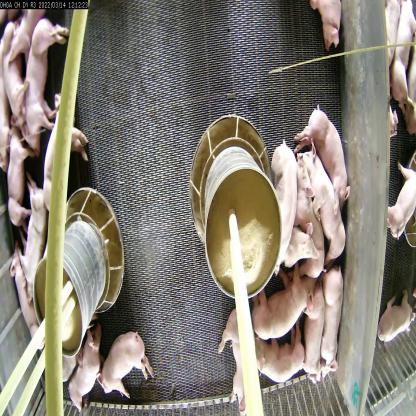Pig: (39, 95, 94, 227), (22, 14, 72, 138), (294, 102, 352, 203), (98, 321, 156, 415), (300, 148, 348, 261), (7, 244, 48, 376), (241, 320, 310, 390), (256, 262, 312, 340), (2, 121, 36, 231), (270, 138, 297, 268), (296, 169, 325, 290), (64, 327, 102, 416), (218, 314, 255, 405), (318, 255, 344, 368), (306, 292, 332, 390), (26, 186, 49, 293)
